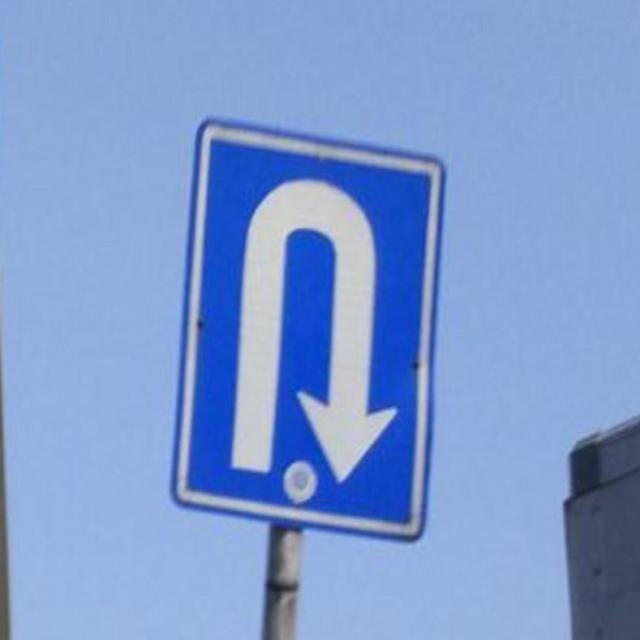traffic sign: (183, 122, 438, 546)
